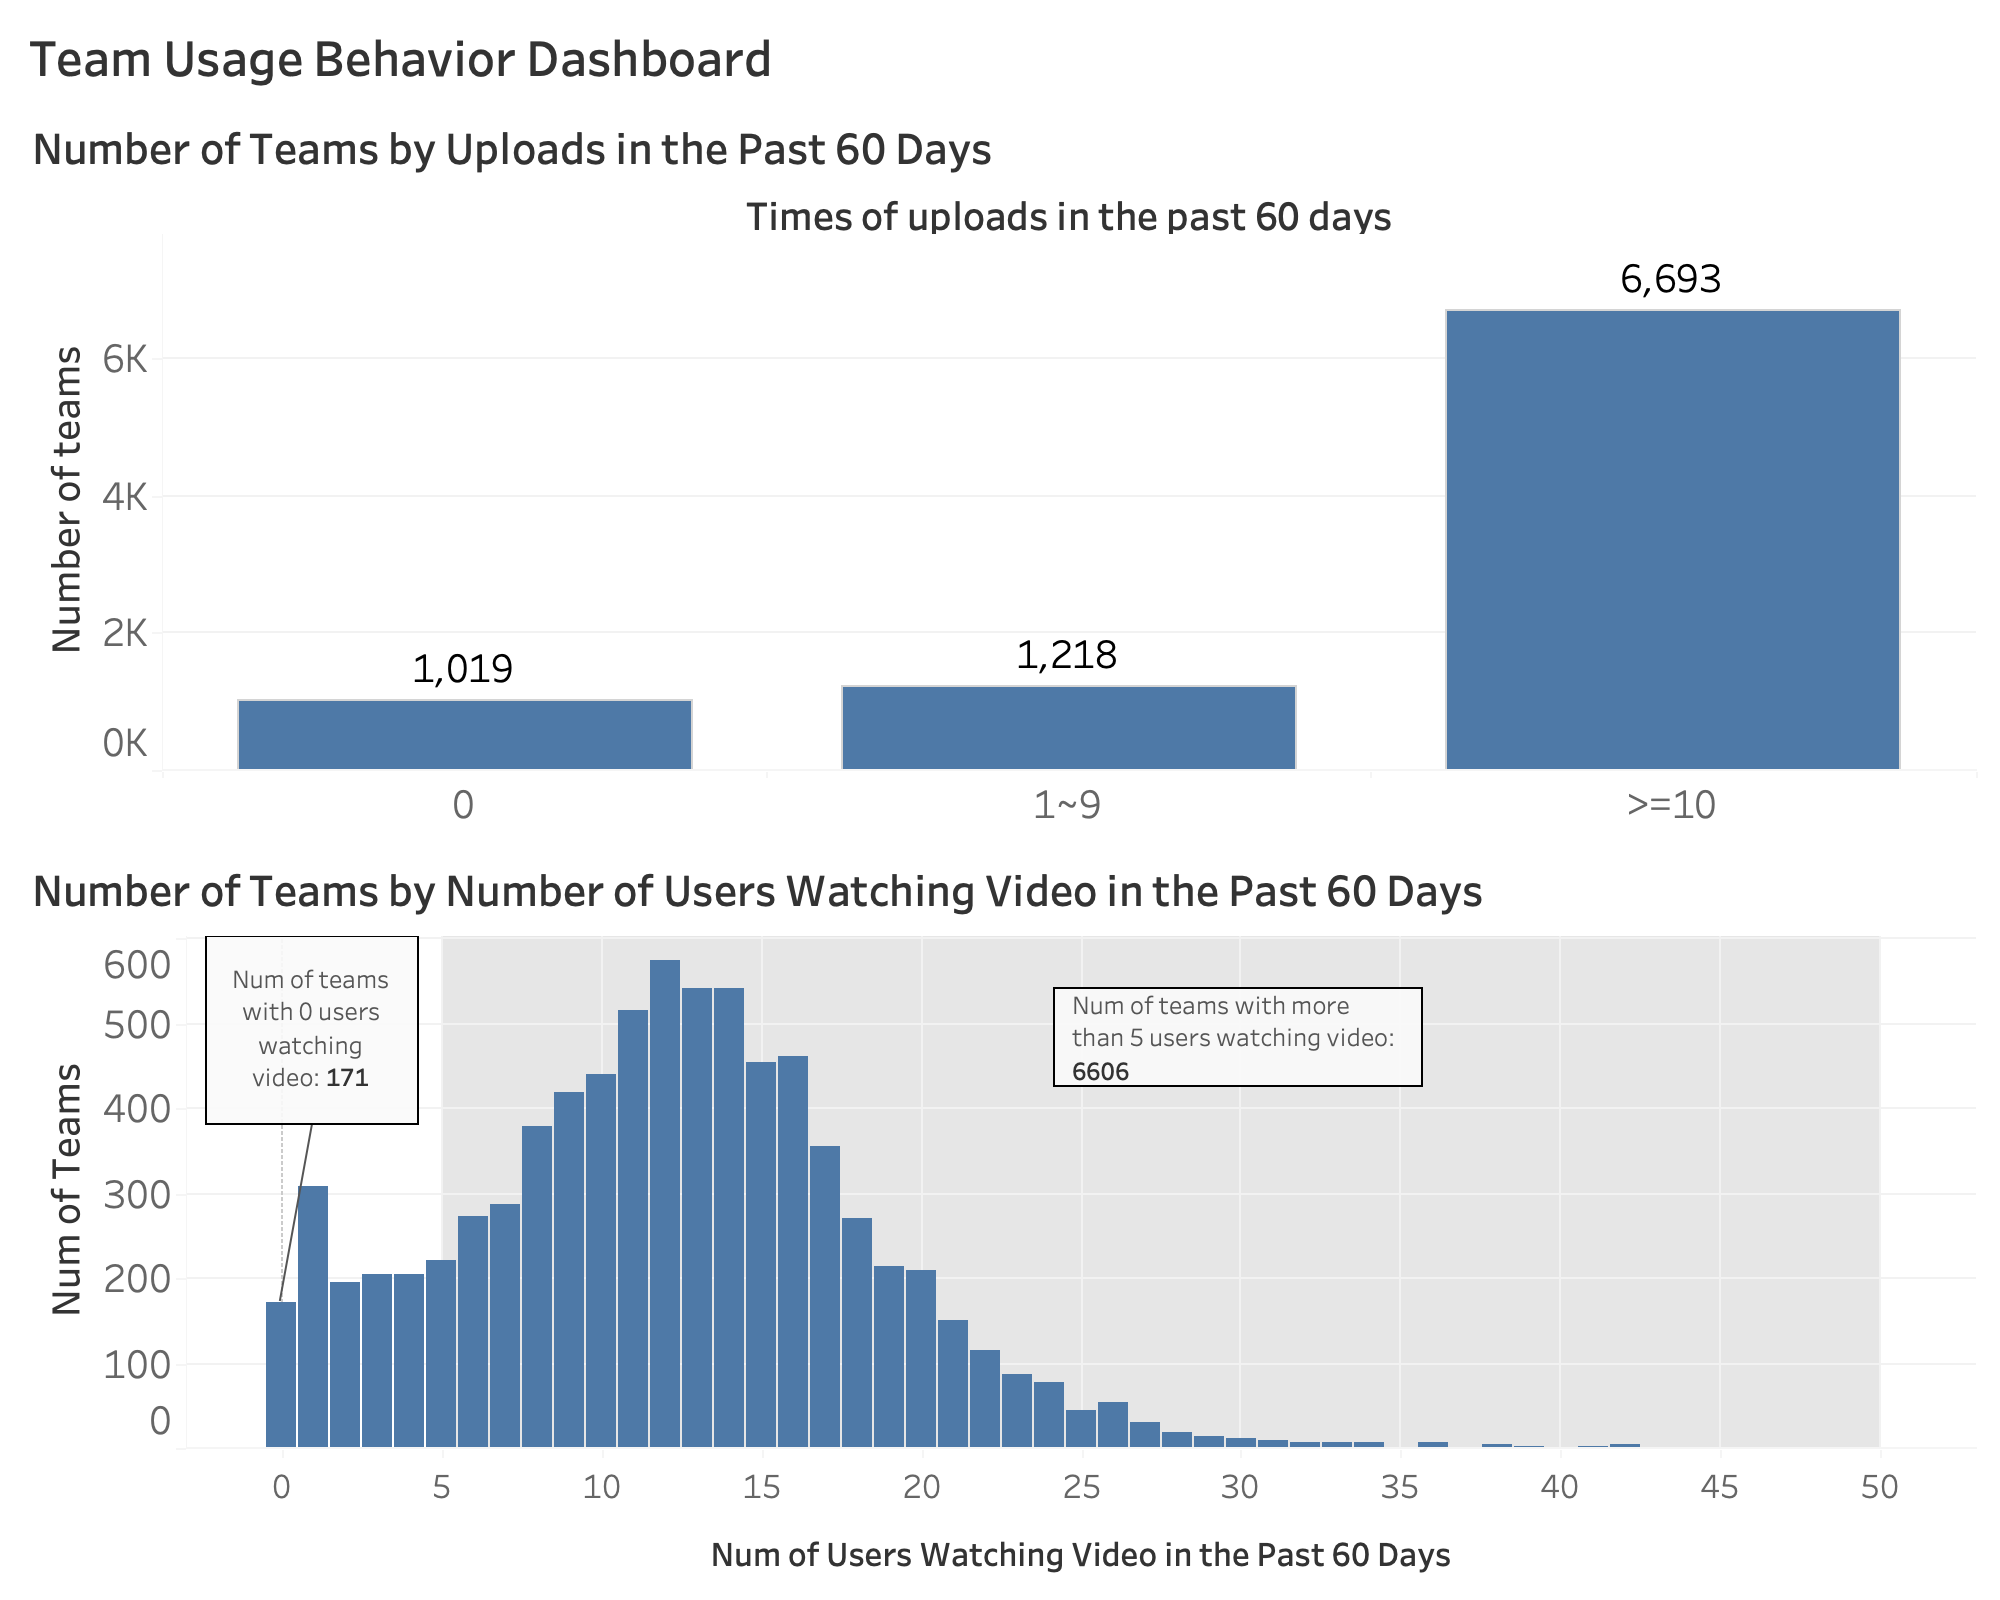

What the dashboard file says about the page in this screenshot:
{"tool":"tableau","page":{"name":"Team Usage Behavior Dashboard","canvas":[1000,800],"ordinal":2},"visuals":[{"type":"title","box":[8,8,984,41]},{"type":"worksheet","title":"Number of Teams by Uploads in the Past 60 Days","mark":"Automatic","rows":["Number of team"],"cols":["Times of uploading in the past 60 days"],"box":[8,49,984,371.5]},{"type":"worksheet","title":"Number of Teams by Number of Users Watching Video in the Past 60 Days","mark":"Bar","rows":["num_user_past_60_days"],"cols":["users_watching_video_last_60_days"],"box":[8,420.5,984,371.5]}]}

Visuals, with their boxes in screenshot pixels (x1, y1, x2, y2), scaled from the page's 1000x800 canvas onto the 2000x1600 screenshot:
title: box(16, 16, 1984, 98)
"Number of Teams by Uploads in the Past 60 Days" worksheet: box(16, 98, 1984, 841)
"Number of Teams by Number of Users Watching Video in the Past 60 Days" worksheet (Bar marks): box(16, 841, 1984, 1584)
